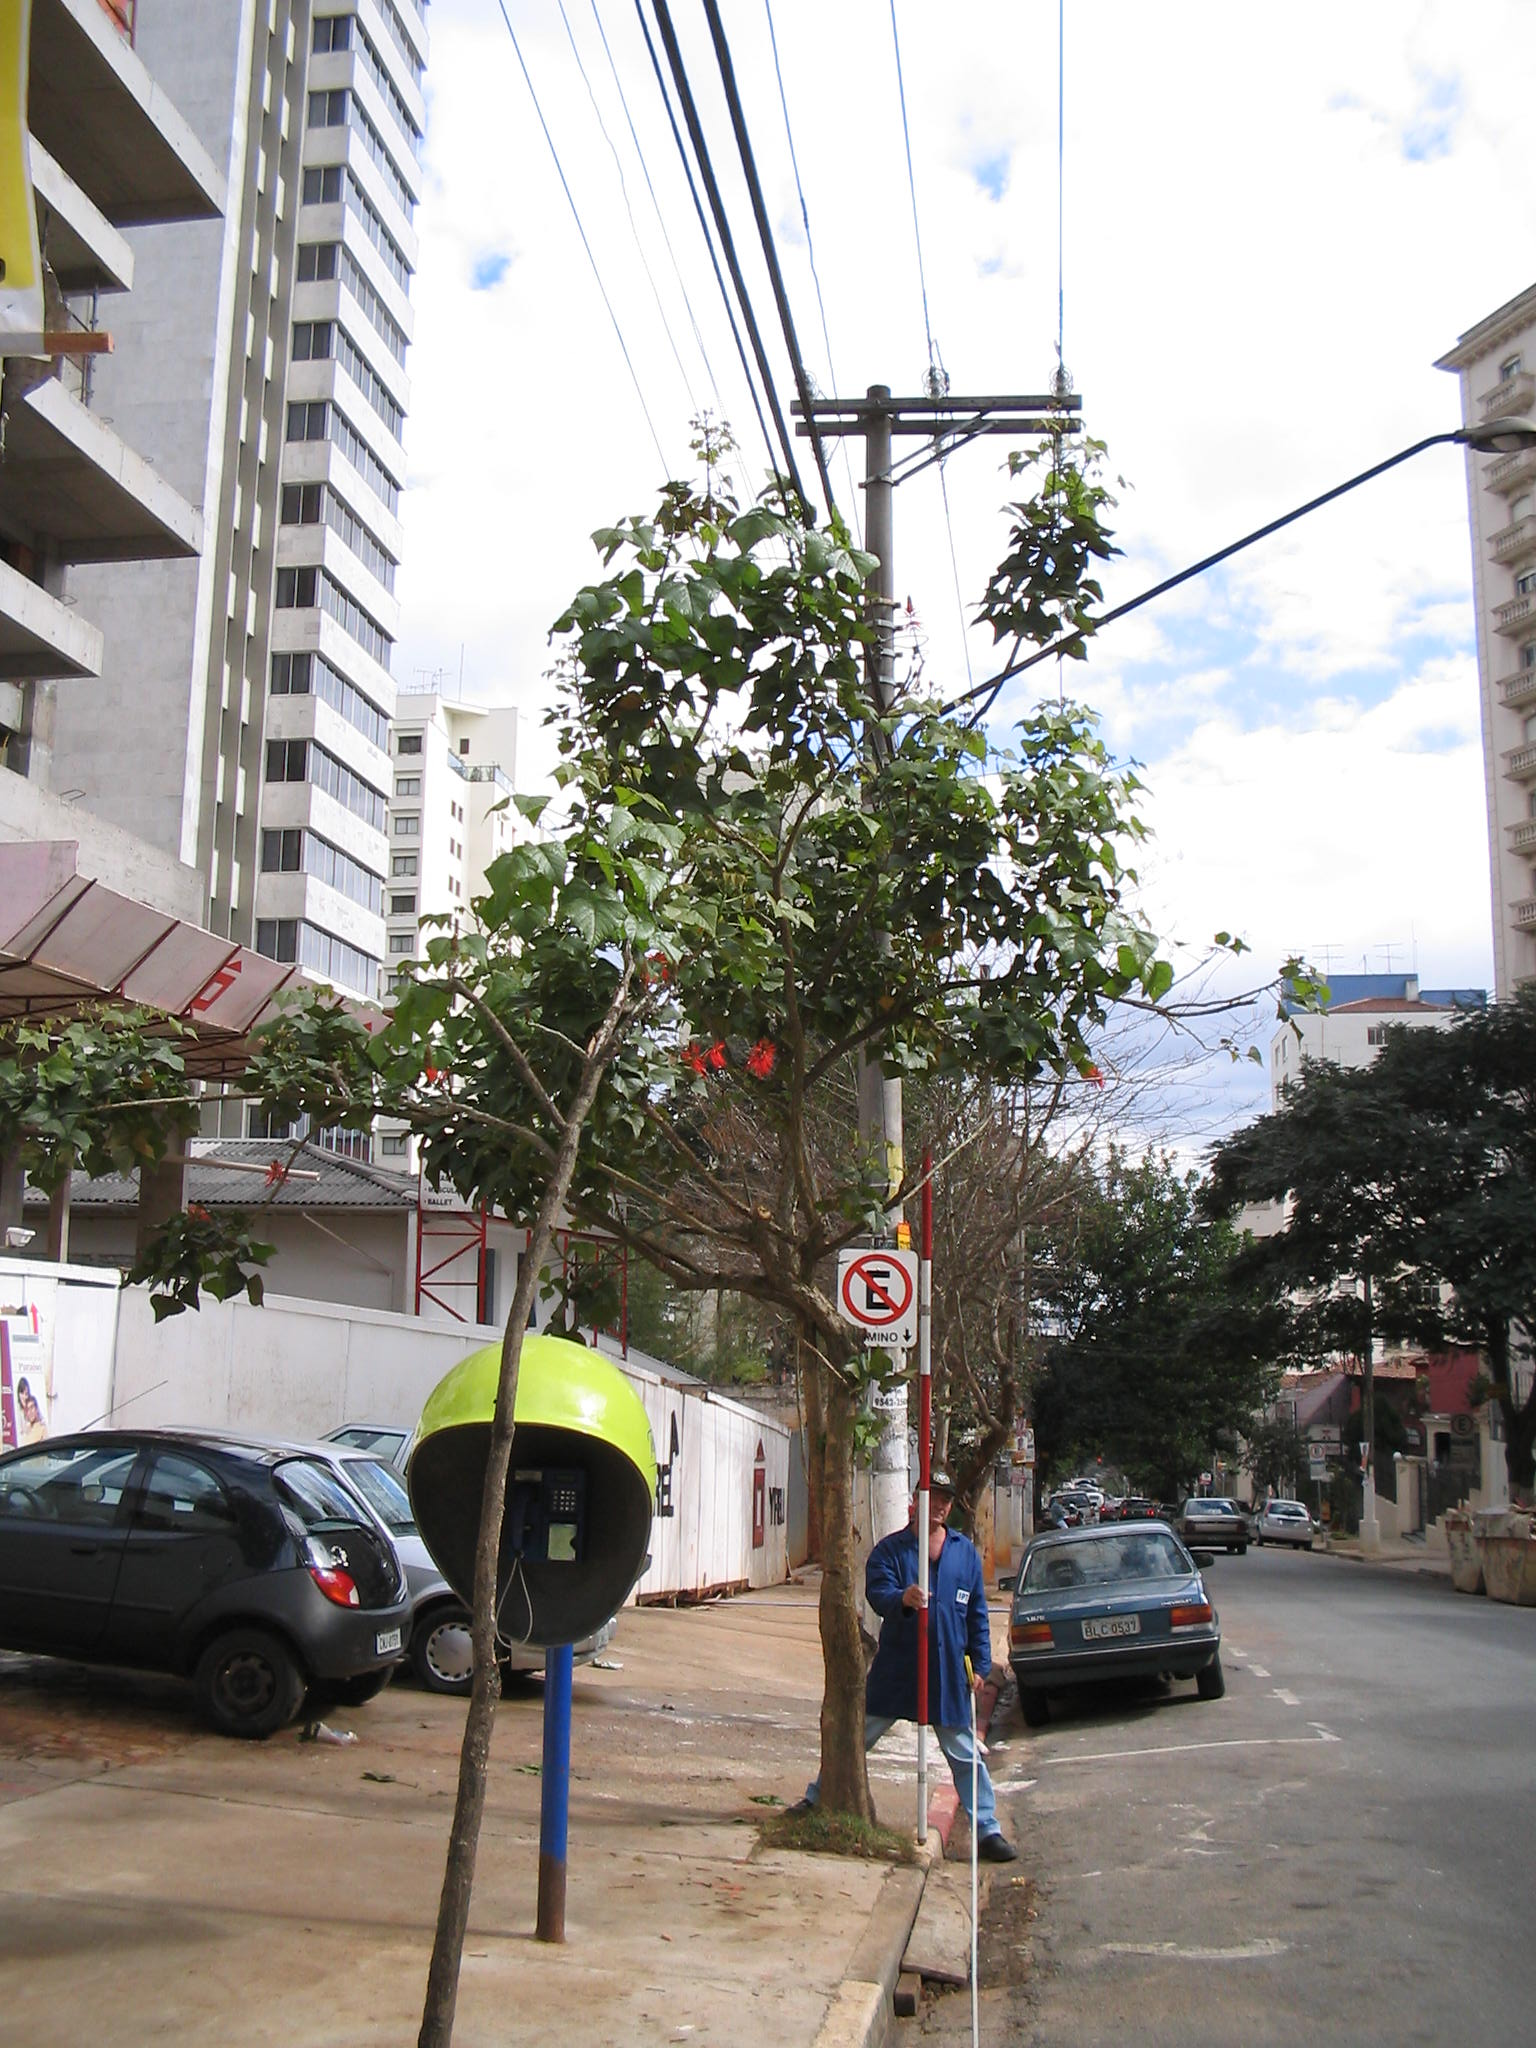crown: (269, 434, 1320, 1303)
stem: (783, 1355, 899, 1837)
stick: (889, 1140, 965, 1846)
tree: (257, 429, 1328, 1846)
